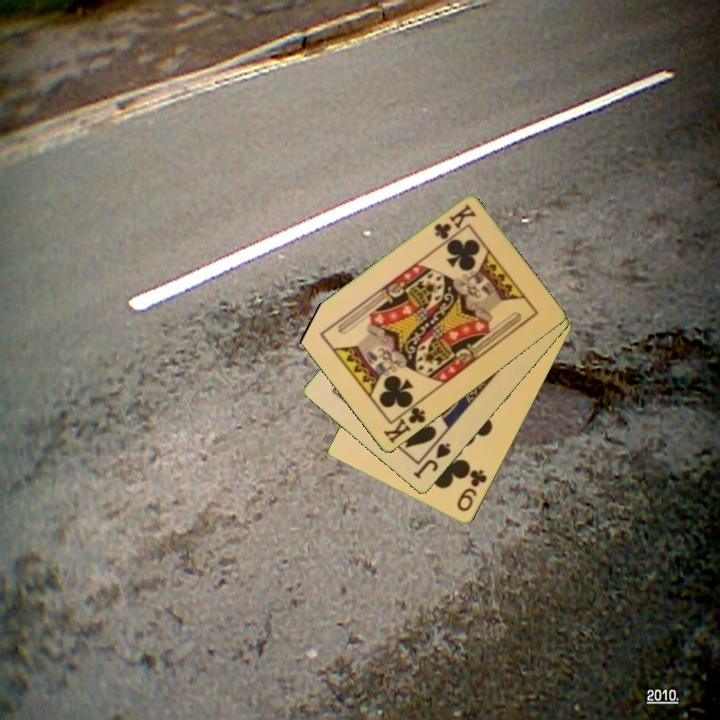9c: (453, 466, 490, 515)
Js: (409, 439, 454, 482)
Kc: (380, 399, 429, 447), (430, 201, 479, 243)
